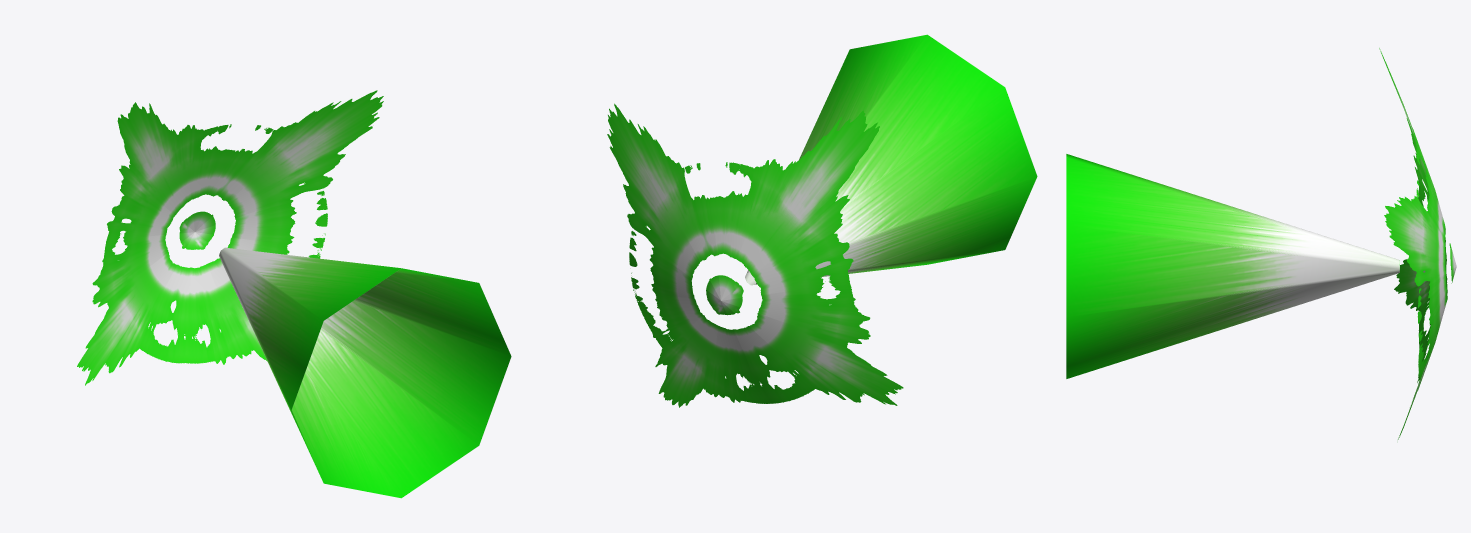
Rendered from muzzle2.FBX.
3 renders of one model, left to right at view 1: azimuth 30°, elevation 25°; view 2: azimuth 150°, elevation 25°; view 3: azimuth 270°, elevation 25°, orthographic. The views are drawn at different scales.
Visible parts, largest first — view 1: Cone003; view 2: Cone003; view 3: Cone003.
Boxes of the visible parts, x1,y1,x2,y2 form: Cone003: (77, 90, 511, 498); Cone003: (607, 34, 1037, 407); Cone003: (1066, 48, 1456, 439).
Bounding box in the file's own units: 0.7096 × 0.7096 × 0.5578.
